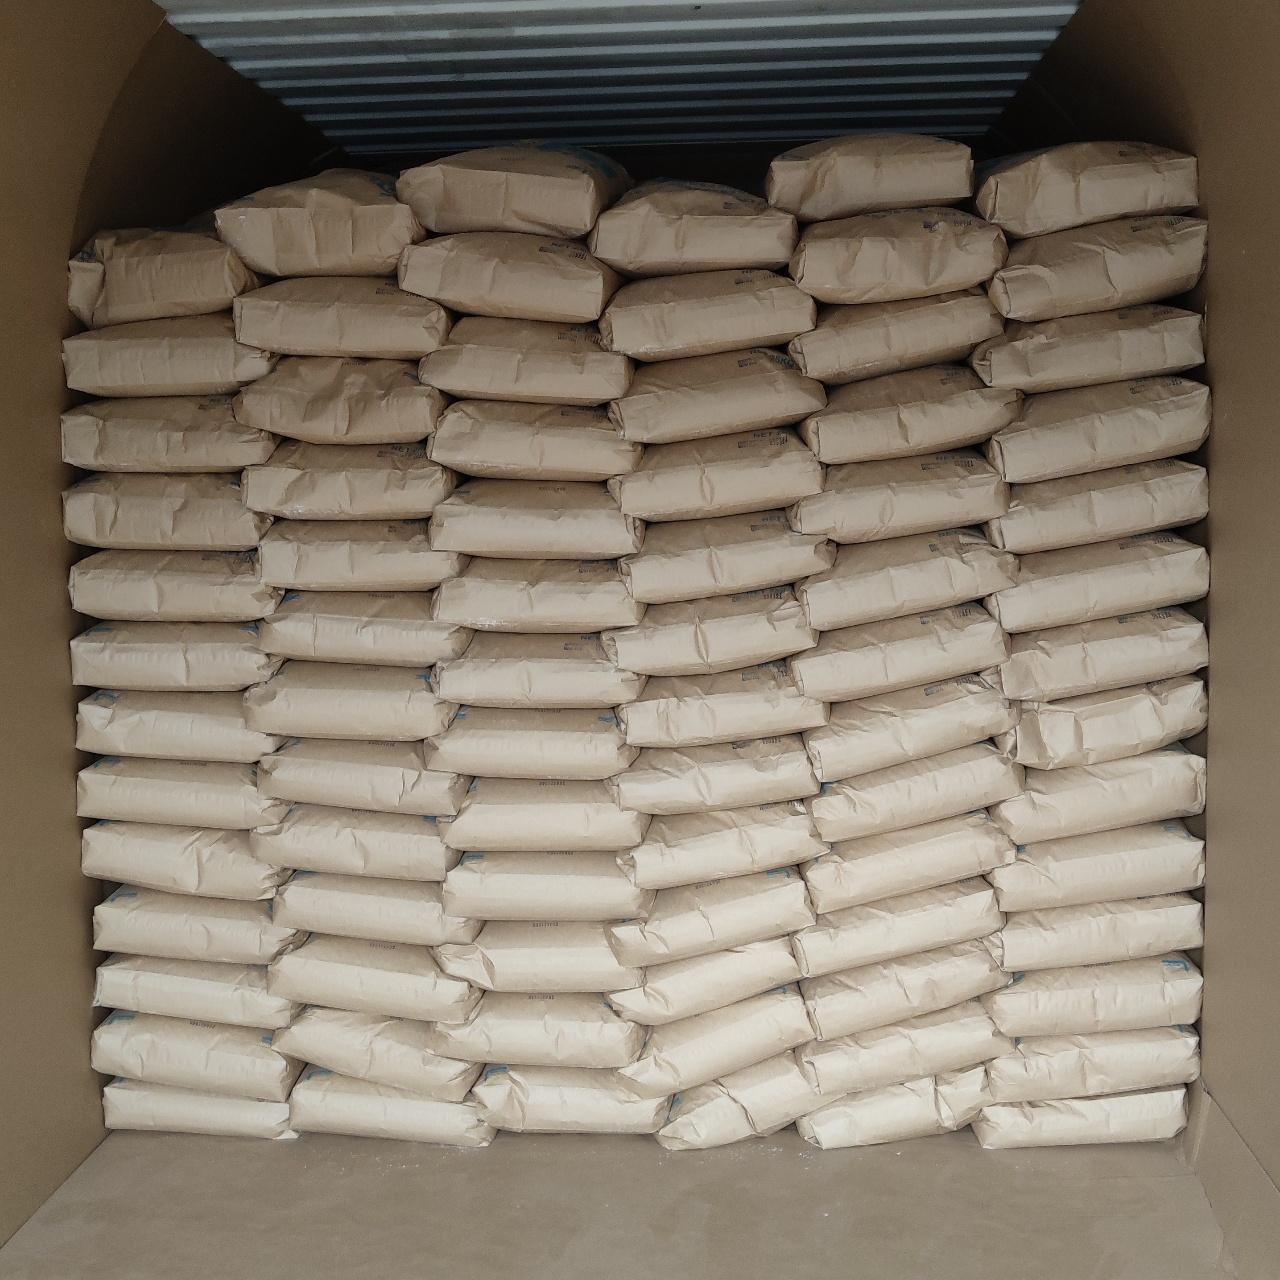sack: (984, 377, 1210, 483), (988, 217, 1207, 321), (804, 676, 1018, 782), (984, 532, 1209, 632), (399, 142, 633, 238), (795, 531, 1020, 630), (215, 170, 425, 276), (800, 811, 1015, 914), (620, 984, 814, 1097), (800, 365, 1022, 463), (980, 606, 1207, 701), (789, 603, 1009, 701), (791, 877, 1005, 977), (990, 744, 1204, 844), (807, 743, 1023, 842), (968, 304, 1204, 394), (976, 142, 1197, 238), (800, 940, 1012, 1040), (606, 867, 814, 968), (789, 207, 1007, 303), (985, 459, 1207, 553), (788, 288, 1003, 384), (587, 180, 798, 277), (397, 232, 624, 322), (610, 348, 825, 443), (787, 450, 1009, 542), (994, 674, 1207, 769), (796, 1000, 1013, 1093), (609, 427, 823, 521), (598, 270, 815, 362), (619, 511, 835, 603), (986, 820, 1204, 911), (273, 1006, 483, 1100), (267, 934, 484, 1023), (602, 587, 819, 675), (69, 228, 258, 328), (92, 1010, 302, 1100), (979, 952, 1202, 1036), (766, 131, 973, 221), (657, 1051, 847, 1149), (233, 357, 449, 443), (419, 317, 633, 403), (617, 801, 827, 887), (617, 662, 828, 747), (62, 313, 277, 396), (234, 278, 453, 358), (985, 892, 1202, 971), (606, 735, 820, 815), (427, 401, 642, 480), (430, 478, 644, 557), (796, 1064, 997, 1148), (984, 1025, 1199, 1103), (94, 885, 306, 964), (608, 937, 800, 1024), (244, 661, 458, 739), (242, 441, 456, 519), (288, 1066, 496, 1146), (62, 396, 279, 472), (82, 821, 288, 900), (431, 991, 646, 1066), (62, 473, 271, 550), (431, 632, 645, 707), (259, 592, 472, 667), (93, 954, 305, 1029), (432, 557, 644, 632), (250, 804, 461, 879), (258, 740, 469, 815), (437, 778, 651, 851), (77, 757, 292, 829), (424, 707, 638, 778), (273, 872, 479, 945), (69, 550, 283, 619), (77, 689, 280, 761), (259, 520, 467, 590), (432, 922, 640, 992), (442, 852, 654, 920), (70, 622, 280, 690), (972, 1086, 1186, 1148), (471, 1066, 670, 1132), (103, 1078, 297, 1139)
